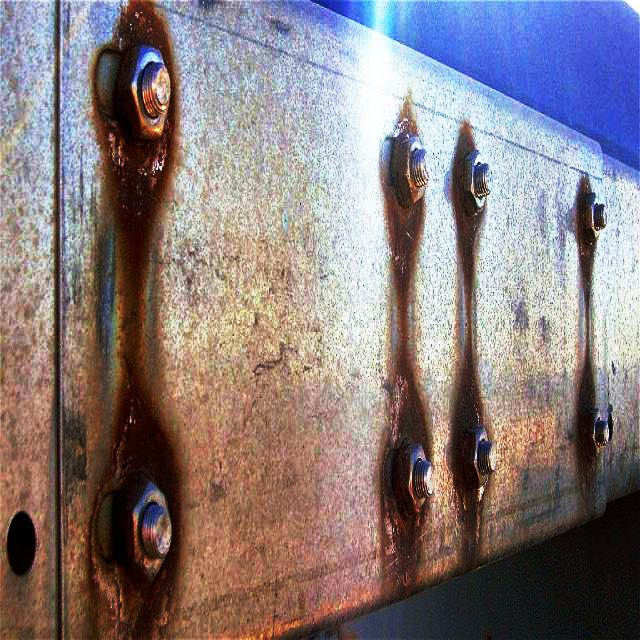Corrosion: (87, 0, 181, 640)
